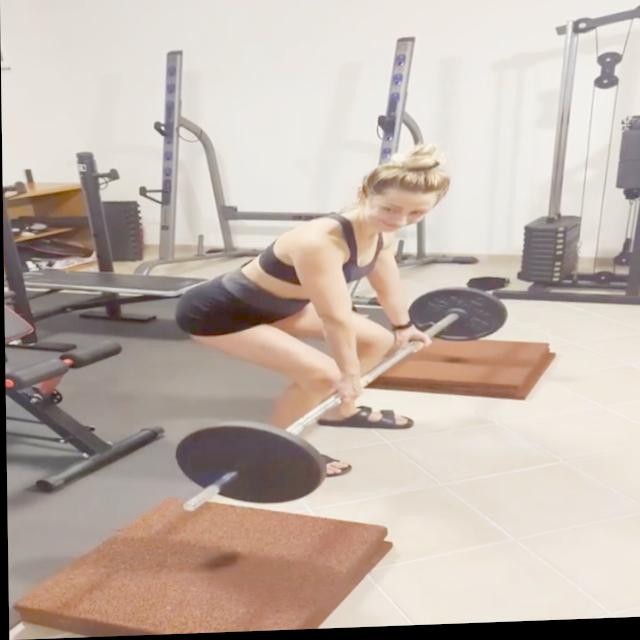barbell: (166, 417, 327, 520)
